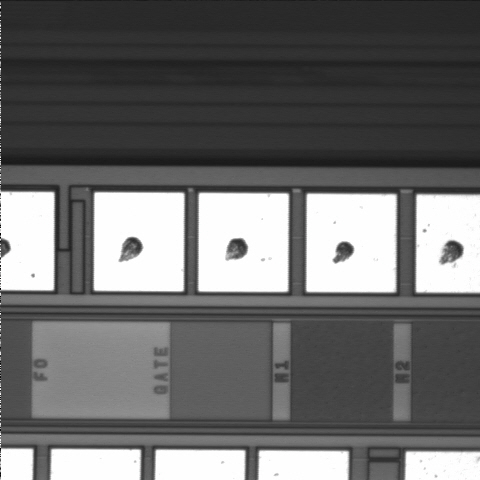pad: (198, 193, 289, 292), (94, 192, 184, 291), (306, 194, 396, 292)
